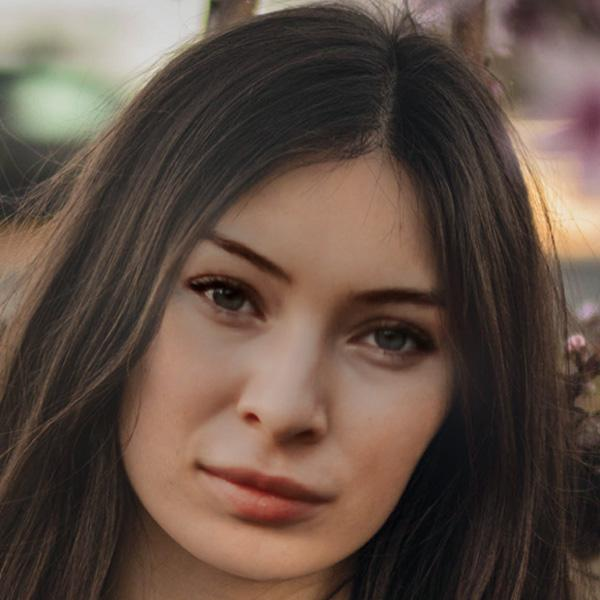Eyes: (175, 262, 275, 329), (342, 309, 432, 370)
